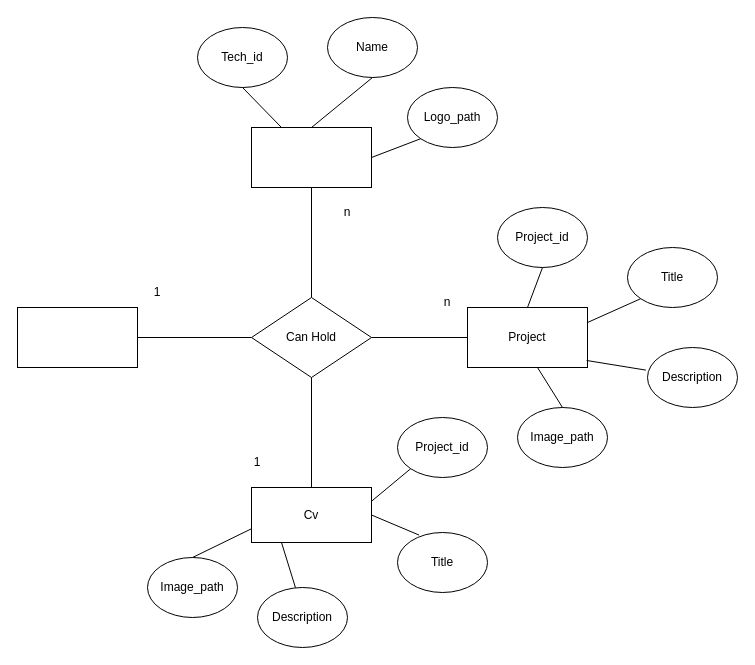
This 755x665 diagram has some shape labels left out. The shapes that lost their labels are listed below. From the top down, each one's centre as x and y in pixels, then its label:
At point 311,157: "Technology".
At point 77,337: "Portofolio Website".
